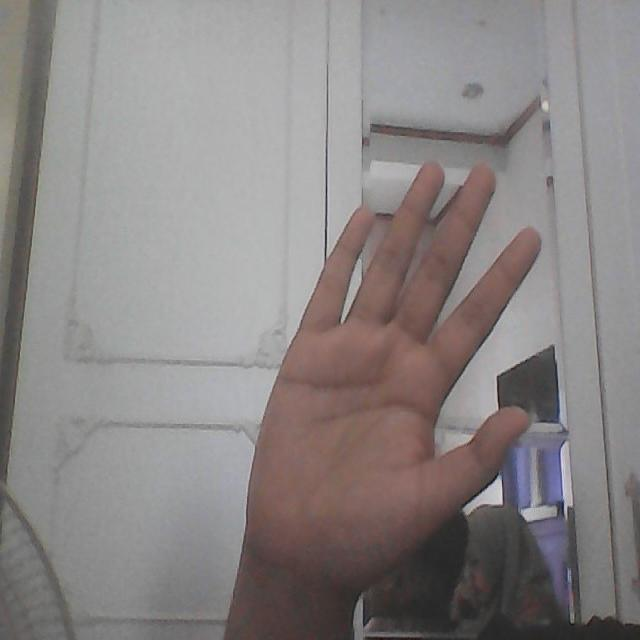hand: (242, 158, 544, 617)
